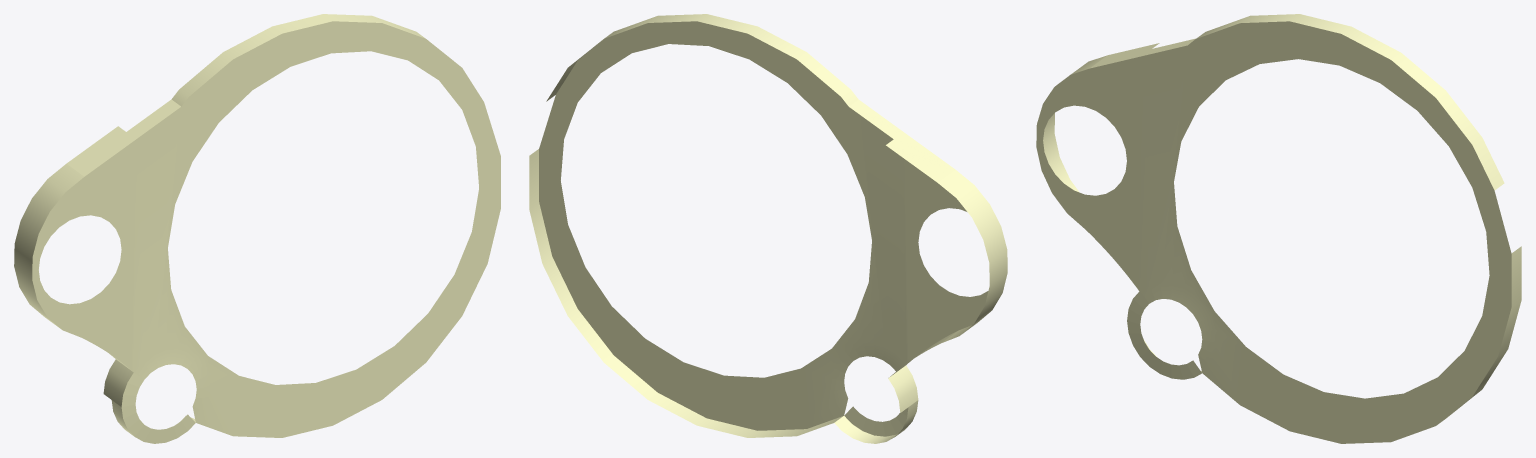
The model's file is original-70.obj.
3 renders of one model, left to right at view 1: azimuth 30°, elevation 25°; view 2: azimuth 150°, elevation 25°; view 3: azimuth 330°, elevation 25°, orthographic.
Parts seen in each view (by area): view 1: #ID370; view 2: #ID370; view 3: #ID370.
Boxes of the visible parts, left/top/right/bottom form: #ID370: left=14, top=14, right=500, bottom=443; #ID370: left=529, top=14, right=1007, bottom=443; #ID370: left=1036, top=14, right=1521, bottom=443.
Bounding box in the file's own units: 0.3123 × 0.2575 × 0.0213.
